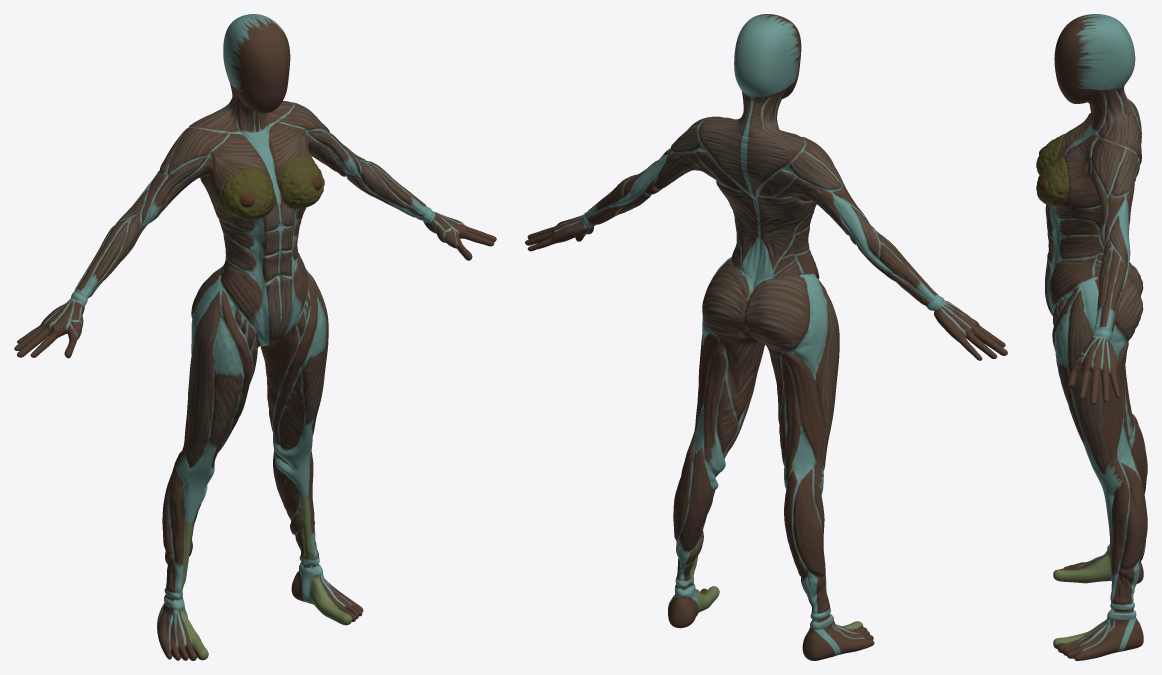
The model's file is Muscle_Female.fbx.
3 renders of one model, left to right at view 1: azimuth 30°, elevation 25°; view 2: azimuth 150°, elevation 25°; view 3: azimuth 270°, elevation 25°, orthographic. The views are drawn at different scales.
Parts seen in each view (by area): view 1: BaseMesh_M_F__1_; view 2: BaseMesh_M_F__1_; view 3: BaseMesh_M_F__1_.
Part boxes in pixels (x1,y1,x2,y2): BaseMesh_M_F__1_: (14,14,496,660); BaseMesh_M_F__1_: (525,14,1007,660); BaseMesh_M_F__1_: (1036,14,1147,660).
Size of the model in its own units: 1.32 by 1.61 by 0.2724.
